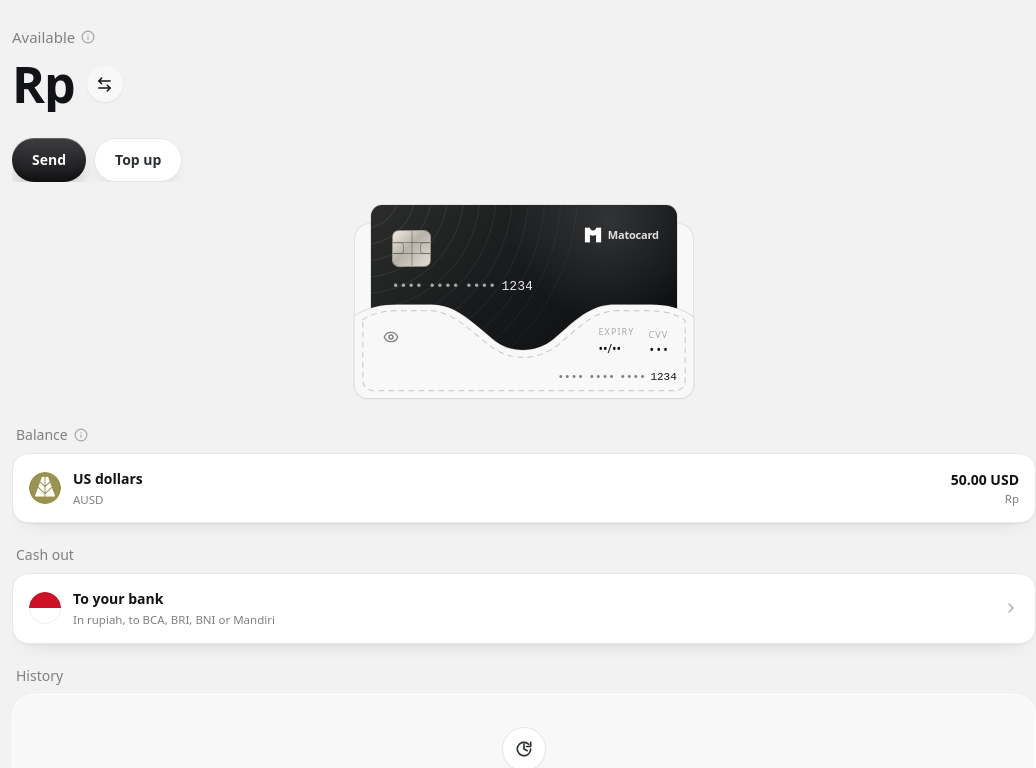
the ⓘ beside Available and Balance explains each on tap
The width and height of the screenshot is (1036, 768).
Click the button named "About Available": (88, 37) [75,24,101,50]
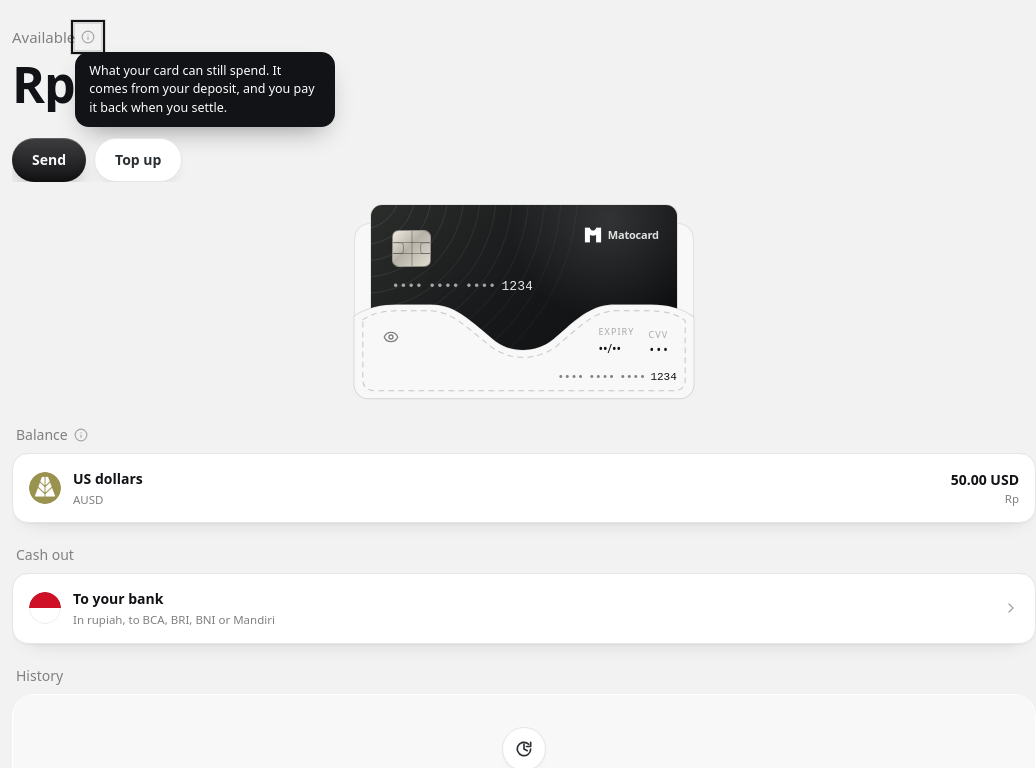
Expected: the tooltip shows "you pay it back when you settle", [89,62,315,116]
Click the button named "About Balance": (81, 435) [68,422,94,448]
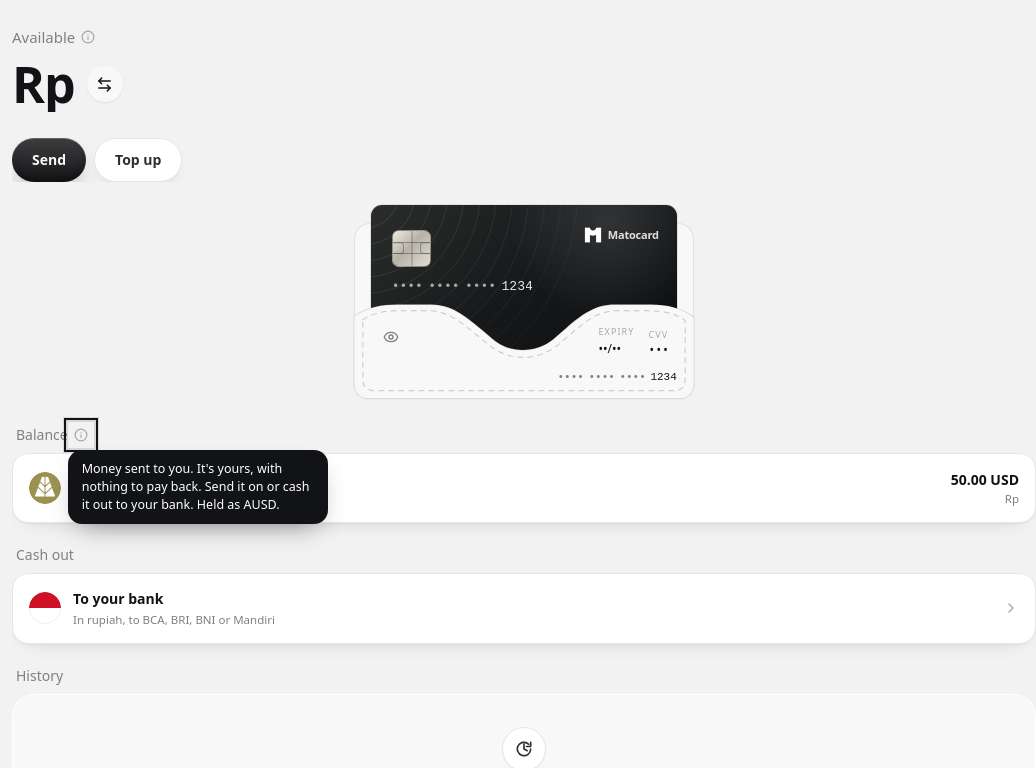
Expected: the tooltip "nothing to pay back" is shown, [82,460,310,513]
